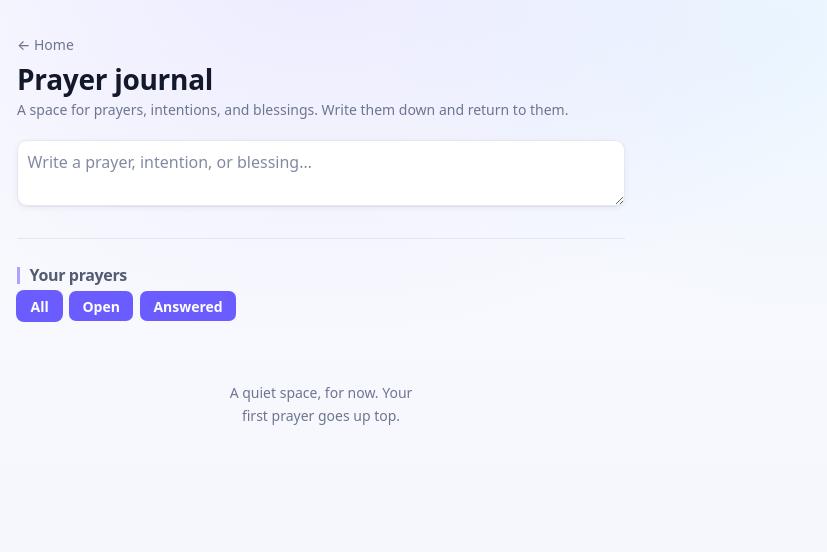
Test: PrayerPage › creating a prayer prepends the new entry
Type "A new intention." into the text box labelled "Write a prayer, intention, or blessing…" at (321, 173), box [17,140,625,206]
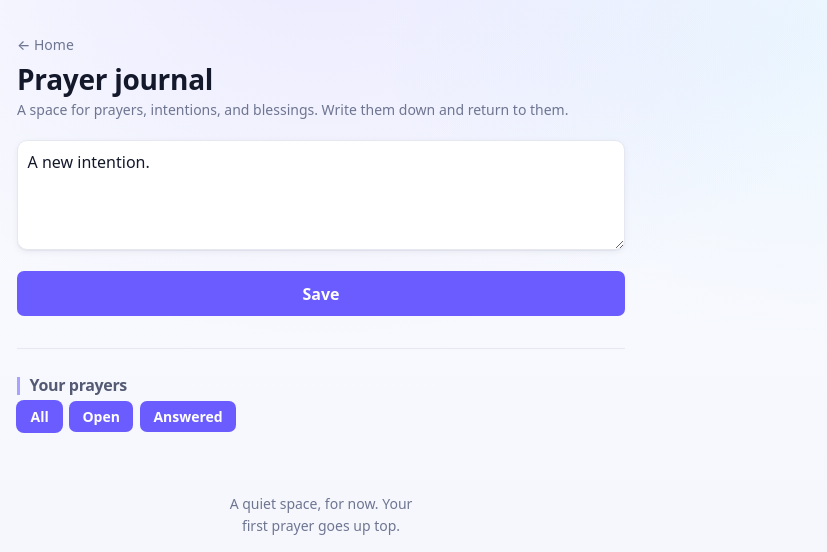
Click the button "Save" at (321, 294), box [17,271,625,316]
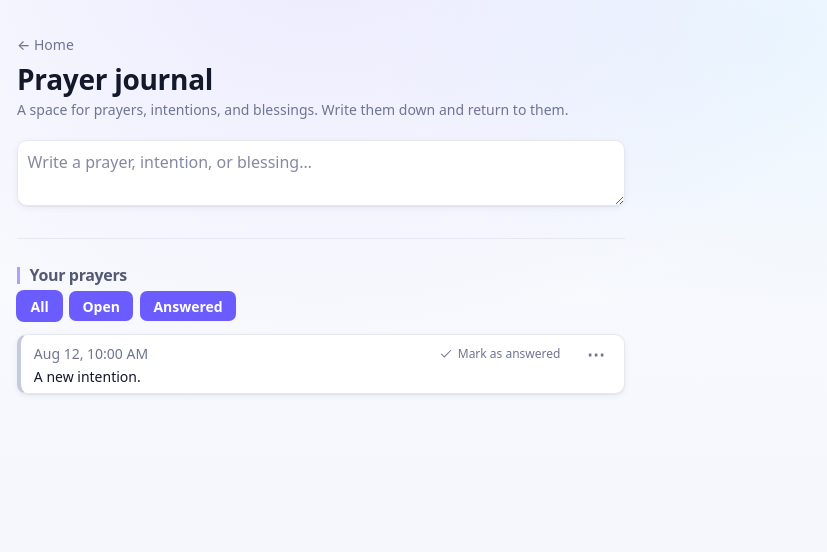
Expected: the text "A new intention." is shown, [34,367,141,386]
